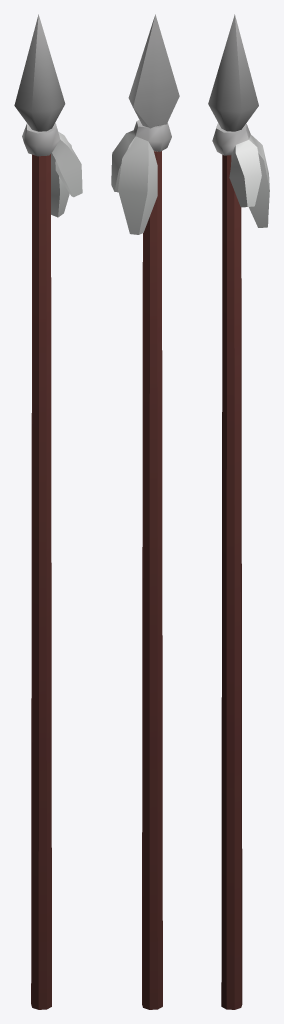
The model's file is GuanesTundamaLanza.fbx.
3 views of the same model, side by side, from view 1: azimuth 30°, elevation 25°; view 2: azimuth 210°, elevation 25°; view 3: azimuth 330°, elevation 25° (orthographic).
Parts seen in each view (by area): view 1: Cylinder.001; view 2: Cylinder.001; view 3: Cylinder.001.
Boxes of the visible parts, left/top/right/bottom form: Cylinder.001: left=14, top=14, right=82, bottom=1009; Cylinder.001: left=111, top=14, right=179, bottom=1009; Cylinder.001: left=208, top=14, right=269, bottom=1009.
Size of the model in its own units: 31.22 by 497 by 27.16.
Materials: 1 (1 with a texture image).
